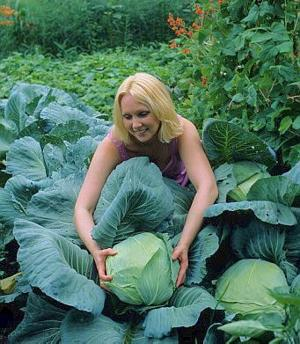person: (74, 70, 221, 295)
